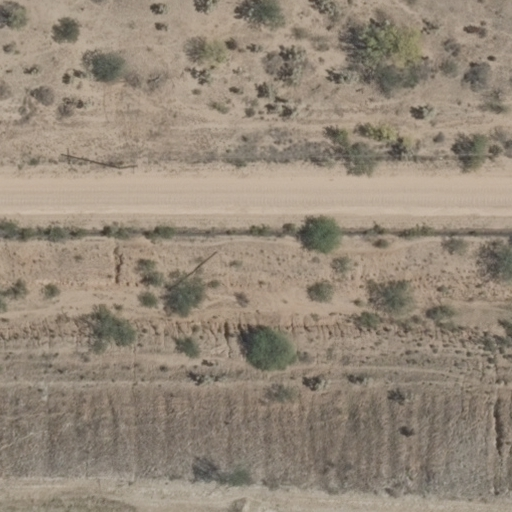DT: (111, 156, 143, 176)
